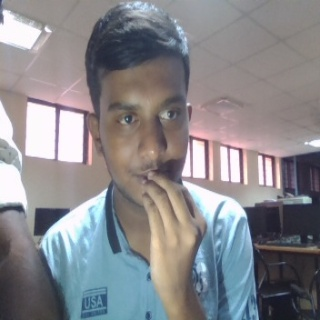Food: (139, 169, 209, 311)
